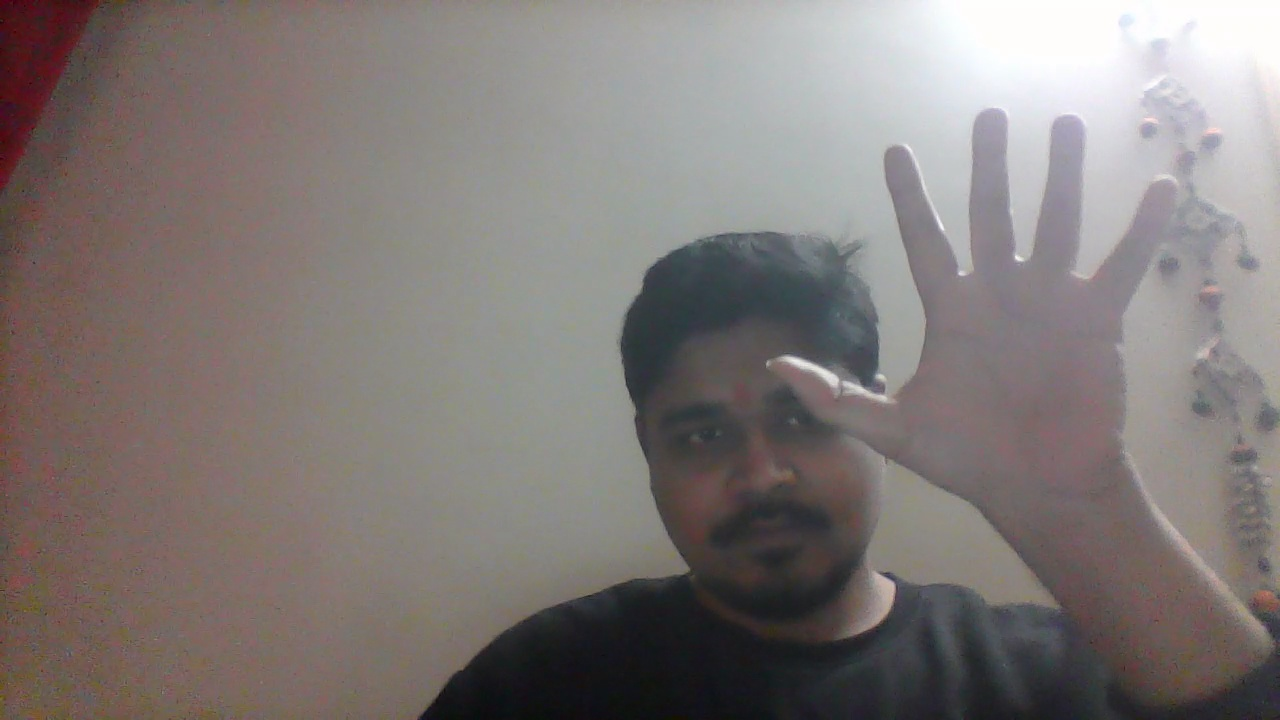Hello: (770, 107, 1185, 518)
